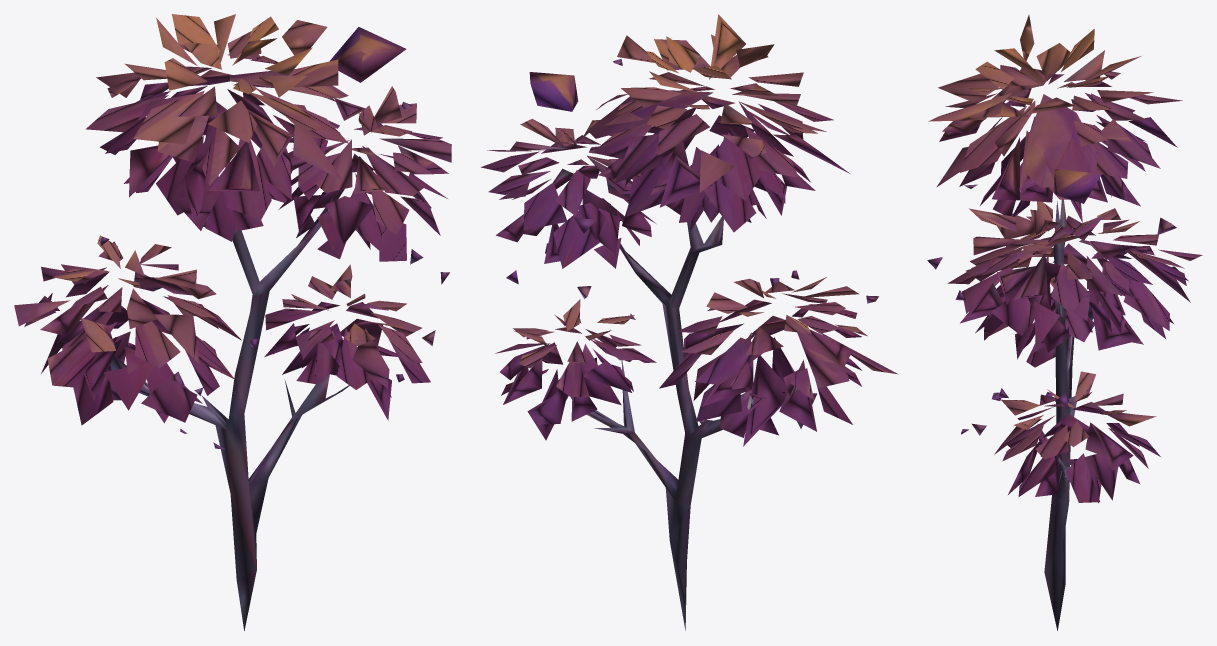
File: jt-rouille-semis.glb
3 renders of one model, left to right at view 1: azimuth 30°, elevation 25°; view 2: azimuth 150°, elevation 25°; view 3: azimuth 270°, elevation 25°, orthographic. The views are drawn at different scales.
Parts seen in each view (by area): view 1: jt-rouille-semis; view 2: jt-rouille-semis; view 3: jt-rouille-semis.
Part boxes in pixels (<box>): jt-rouille-semis: <box>14,14,451,630</box>; jt-rouille-semis: <box>481,14,897,630</box>; jt-rouille-semis: <box>927,15,1202,630</box>.
Bounding box in the file's own units: 1.37 × 1.96 × 0.8416.
Materials: 1 (1 with a texture image).
